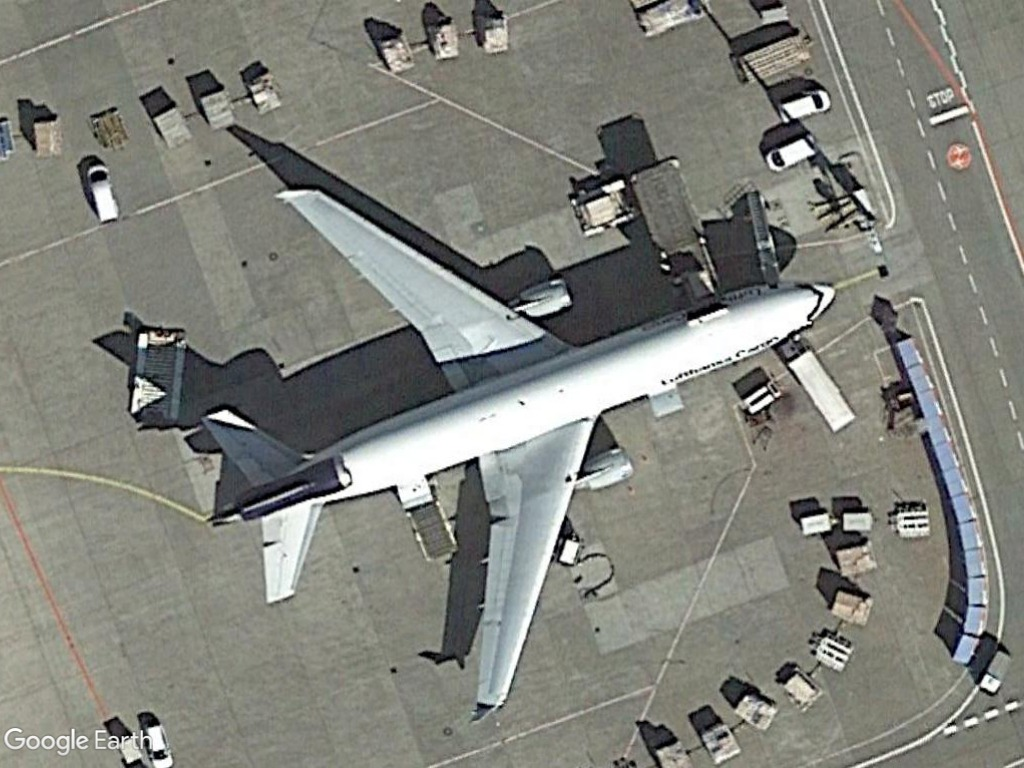airliner: (197, 176, 841, 733)
van: (78, 152, 127, 237), (765, 84, 845, 128), (755, 128, 827, 174)
